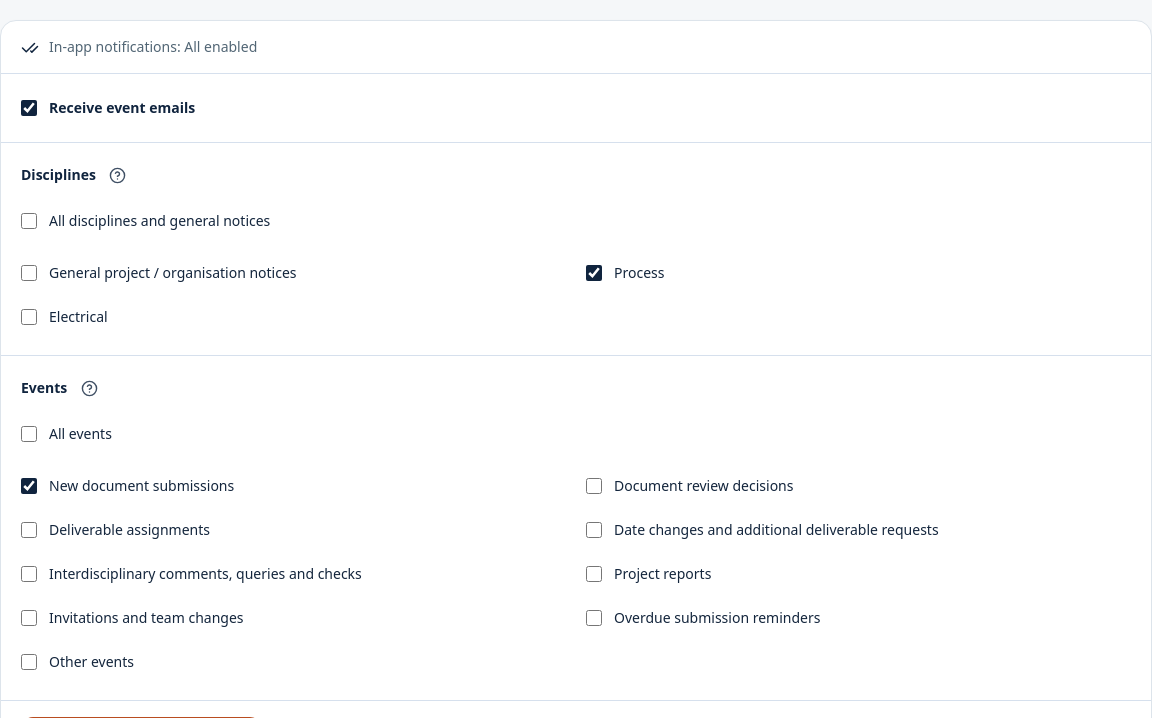
it: preserves custom selections across the all-options toggle and submits the original scope
Expected: the checkbox labelled "Process" is checked, [586,265,602,281]
Expected: the checkbox labelled "New document submissions" is checked, [21,478,37,494]
Click the checkbox labelled "All disciplines and general notices": (29, 221) [21,213,37,229]
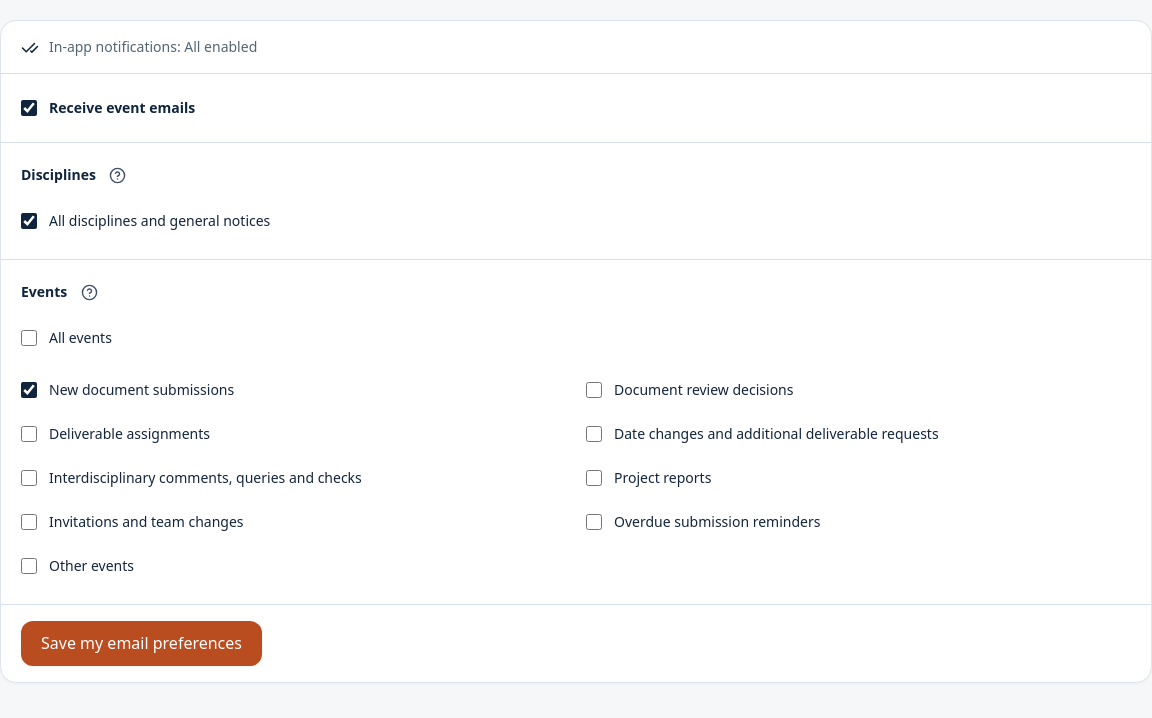
Click the checkbox labelled "All events": (29, 338) [21,330,37,346]
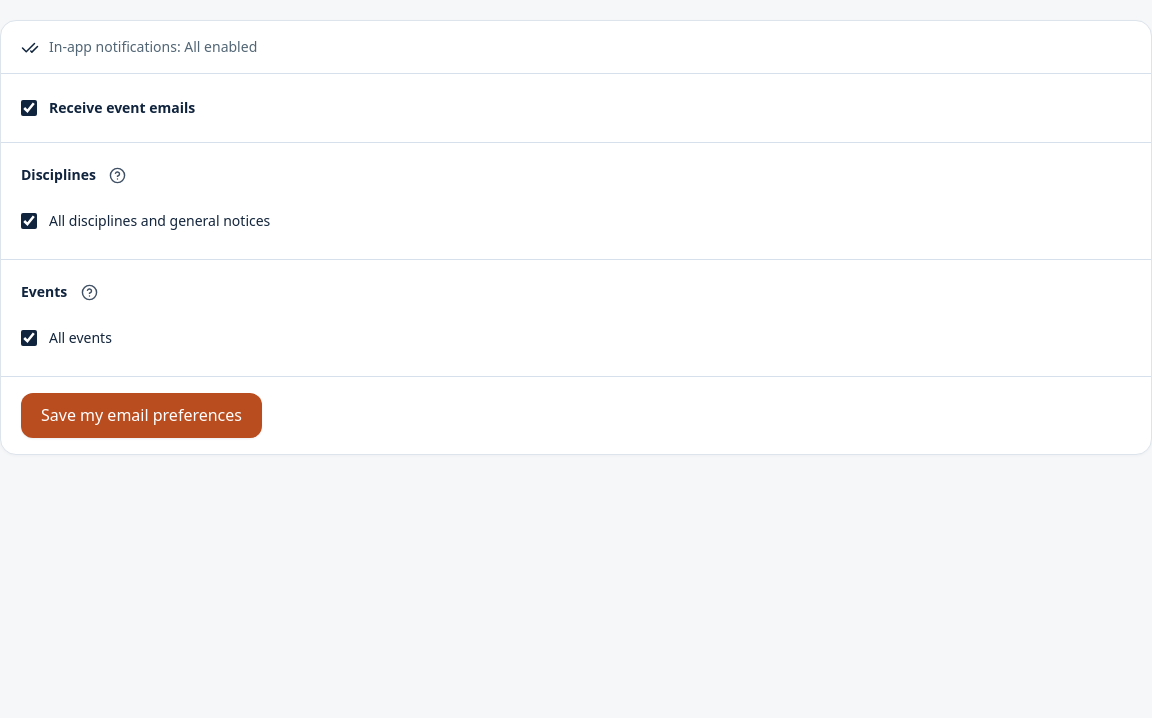
Expected: the text "Process" is not shown
Expected: the text "New document submissions" is gone
Click the checkbox labelled "All disciplines and general notices": (29, 221) [21,213,37,229]
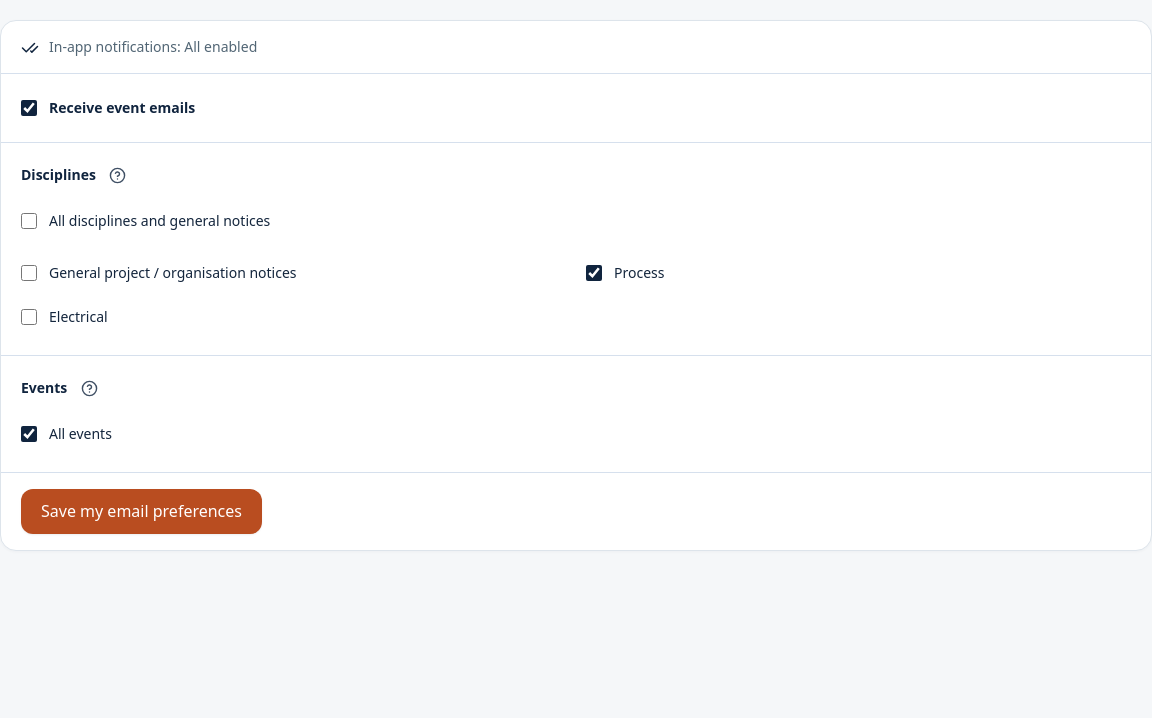
Click the checkbox labelled "All events": (29, 434) [21,426,37,442]
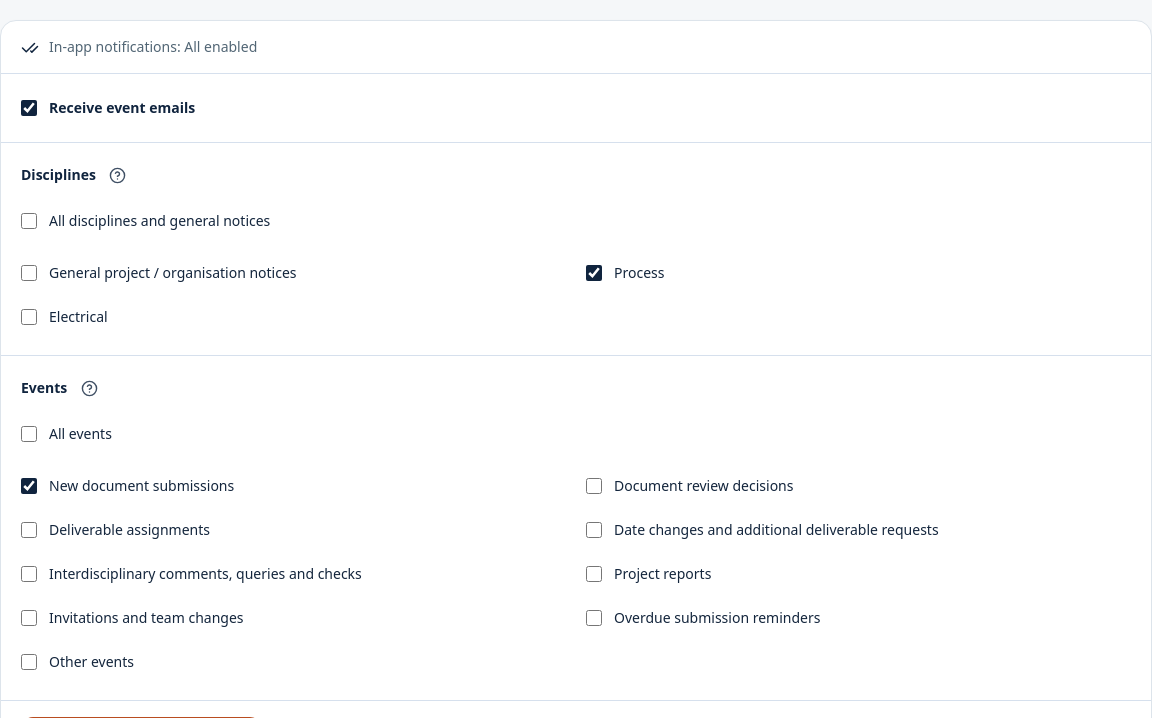
Expected: the checkbox labelled "Process" is checked, [586,265,602,281]
Expected: the checkbox labelled "New document submissions" is checked, [21,478,37,494]
